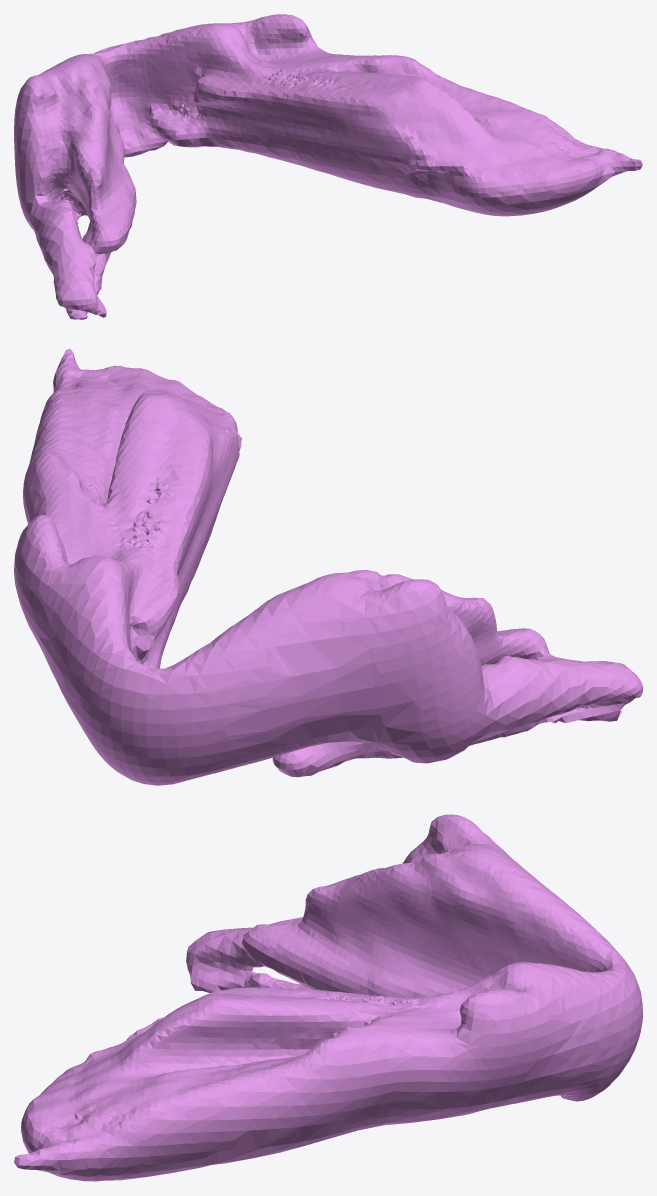
Rendered from pink_palm_AR.glb.
3 views of the same model, one above another, from view 1: azimuth 30°, elevation 25°; view 2: azimuth 150°, elevation 25°; view 3: azimuth 270°, elevation 25° (orthographic). The views are drawn at different scales.
Parts seen in each view (by area): view 1: Mesh palm4 simp - Cloud2; view 2: Mesh palm4 simp - Cloud2; view 3: Mesh palm4 simp - Cloud2.
Part boxes in pixels (x1=…): Mesh palm4 simp - Cloud2: x1=14, y1=14, x2=642, y2=319; Mesh palm4 simp - Cloud2: x1=14, y1=348, x2=642, y2=785; Mesh palm4 simp - Cloud2: x1=14, y1=814, x2=642, y2=1181.
Bounding box in the file's own units: 1.44 × 0.4374 × 1.23.
